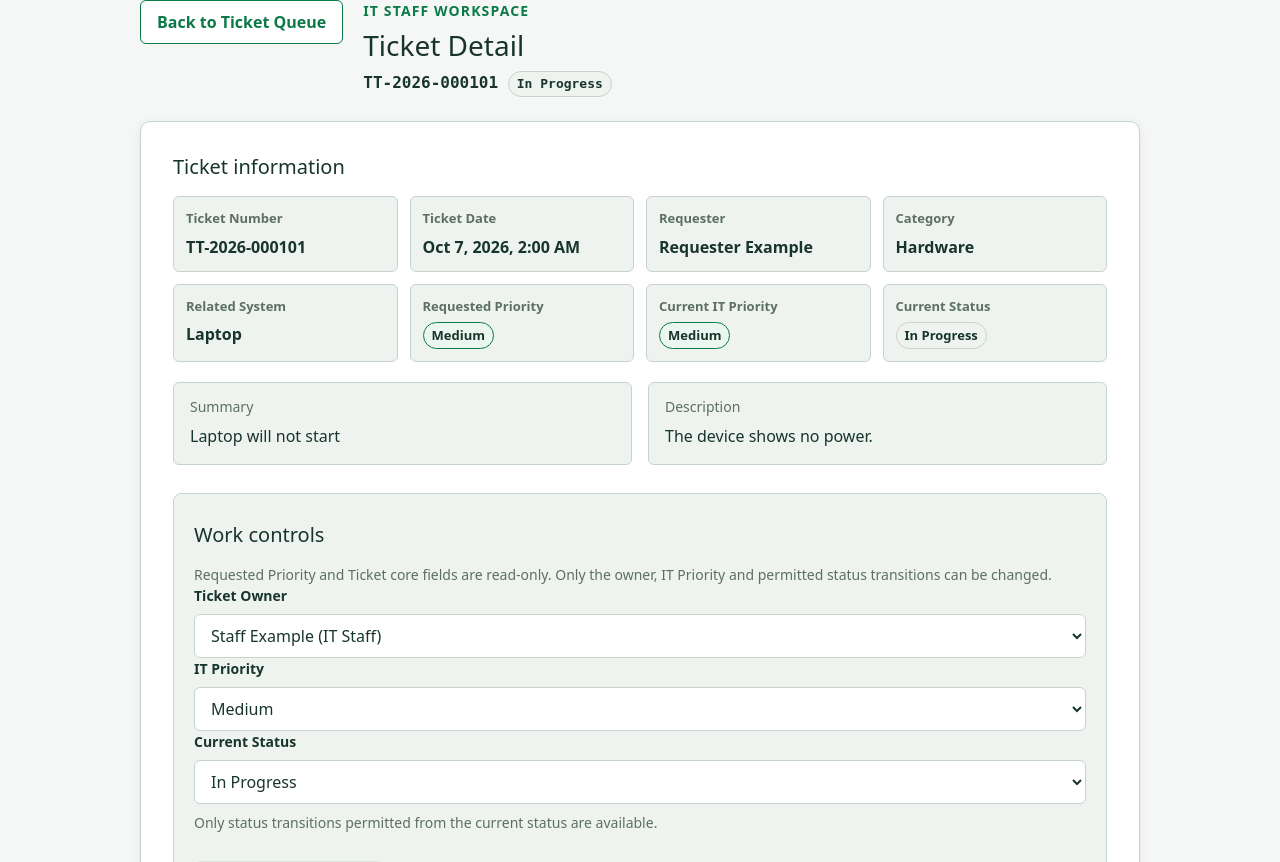
Test: Ticket workflow final regression › requires evidence and confirmation before a formal Resolved transition
Expected: the heading "Ticket Detail" is shown, [363,26,524,64]
Select "Resolved" in the dropdown labelled "Current Status" at (640, 782), box [194,760,1086,804]
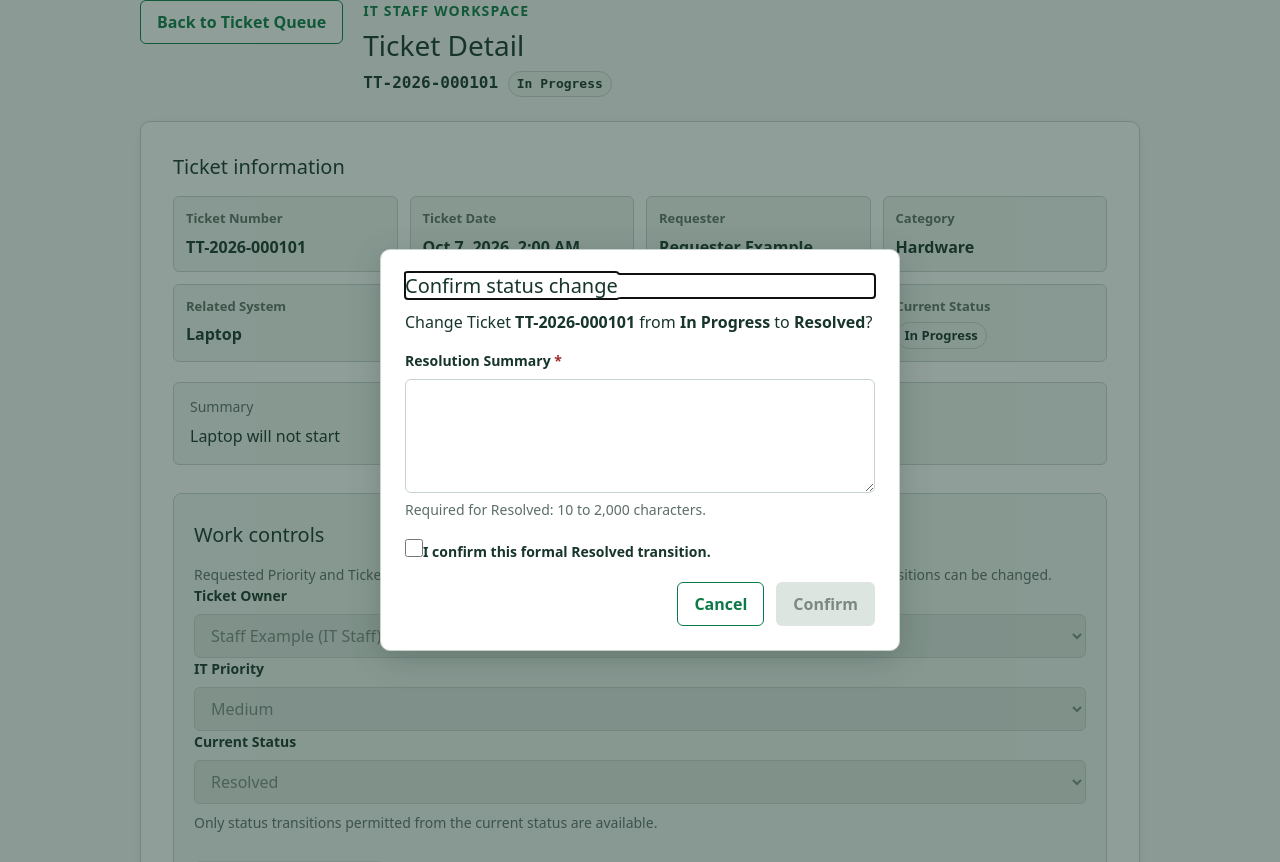
Result: the text box labelled "Resolution Summary *" is shown at [405,379,875,493]
Result: the button "Confirm" is disabled at [776,582,875,626]
Press Escape
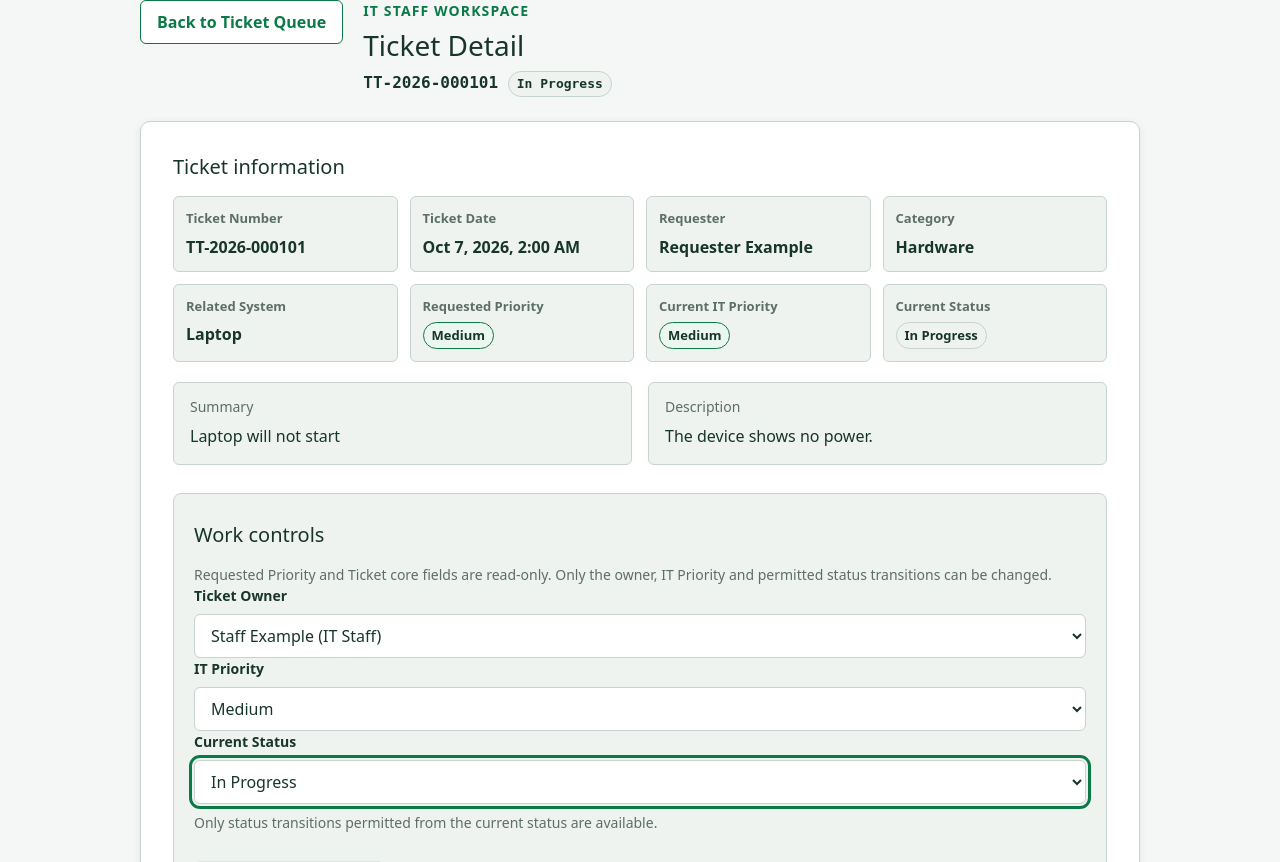
Result: the heading "Confirm status change" is gone
